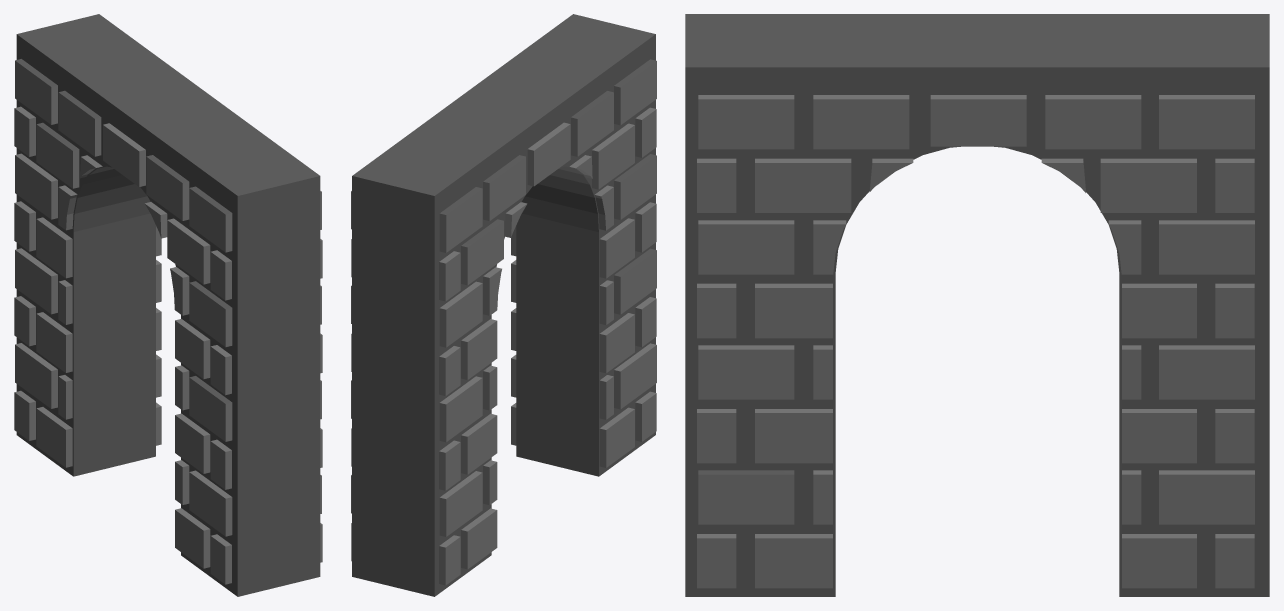
Rendered from archedwall.fbx.
3 views of the same model, side by side, from view 1: azimuth 30°, elevation 25°; view 2: azimuth 150°, elevation 25°; view 3: azimuth 270°, elevation 25° (orthographic). The views are drawn at different scales.
Parts seen in each view (by area): view 1: archwall; view 2: archwall; view 3: archwall.
Boxes of the visible parts, box(x1,y1,x2,y2) form: archwall: box(14, 14, 322, 596); archwall: box(351, 14, 656, 596); archwall: box(685, 14, 1269, 596).
Size of the model in its own units: 25 by 100 by 100.
